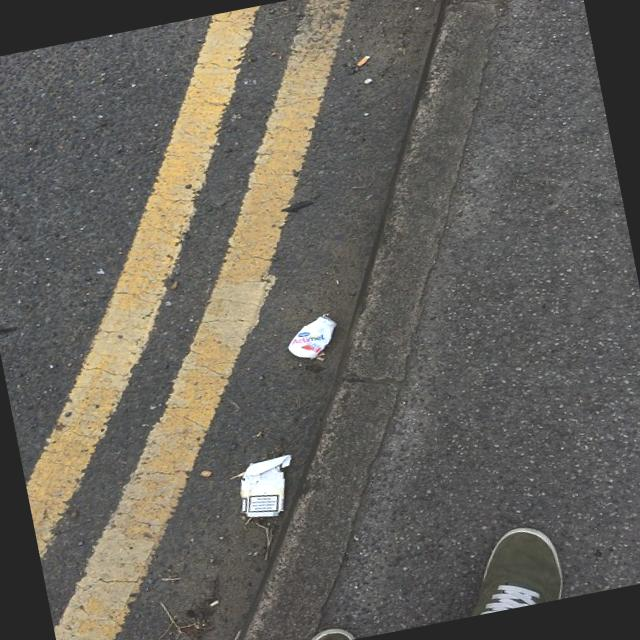Trash: (227, 450, 303, 524), (283, 307, 348, 368)
